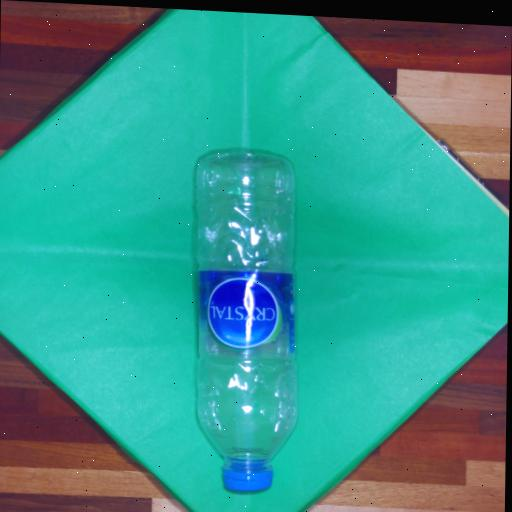bottle: (192, 150, 295, 495)
